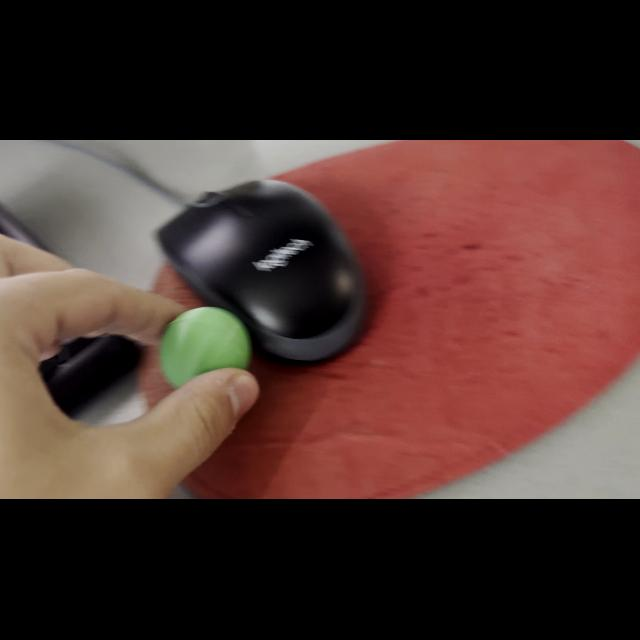objects: (156, 301, 254, 387)
